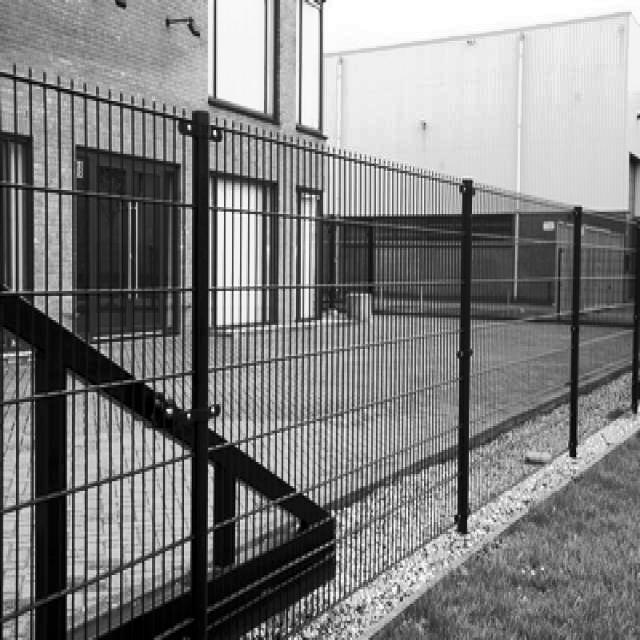fences: (0, 141, 356, 640), (389, 159, 640, 527)
